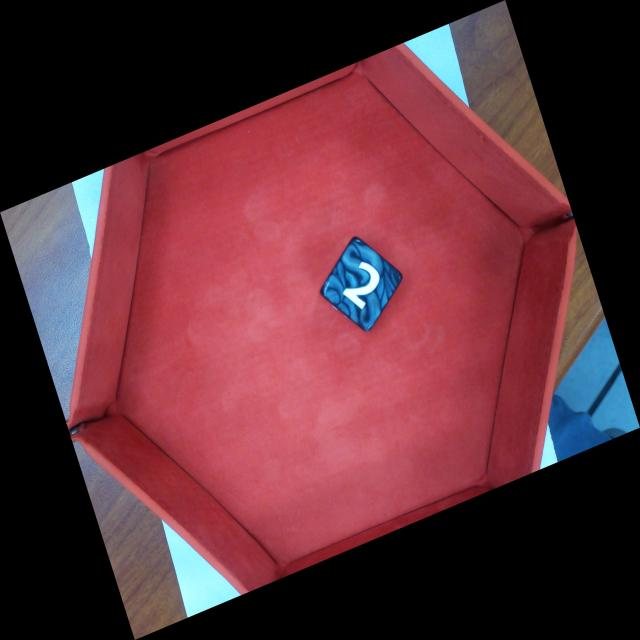dice: (325, 240, 402, 329)
